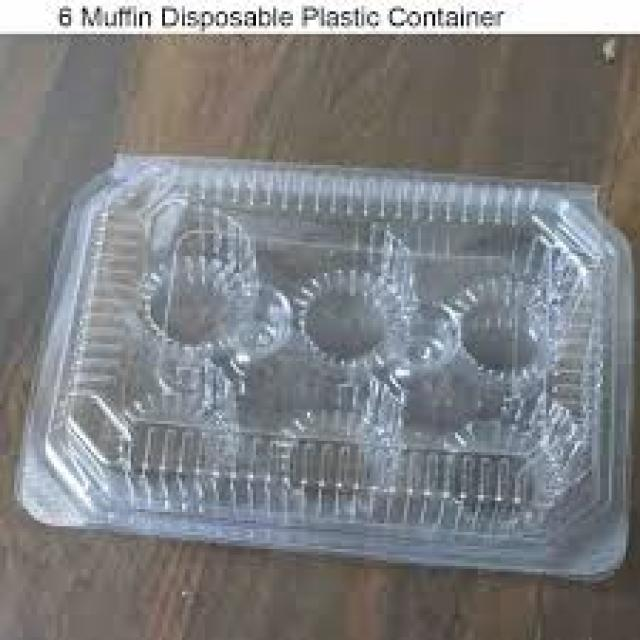disposable: (45, 136, 639, 594)
